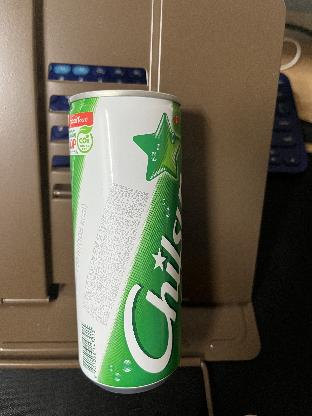Can: (71, 90, 184, 396)
